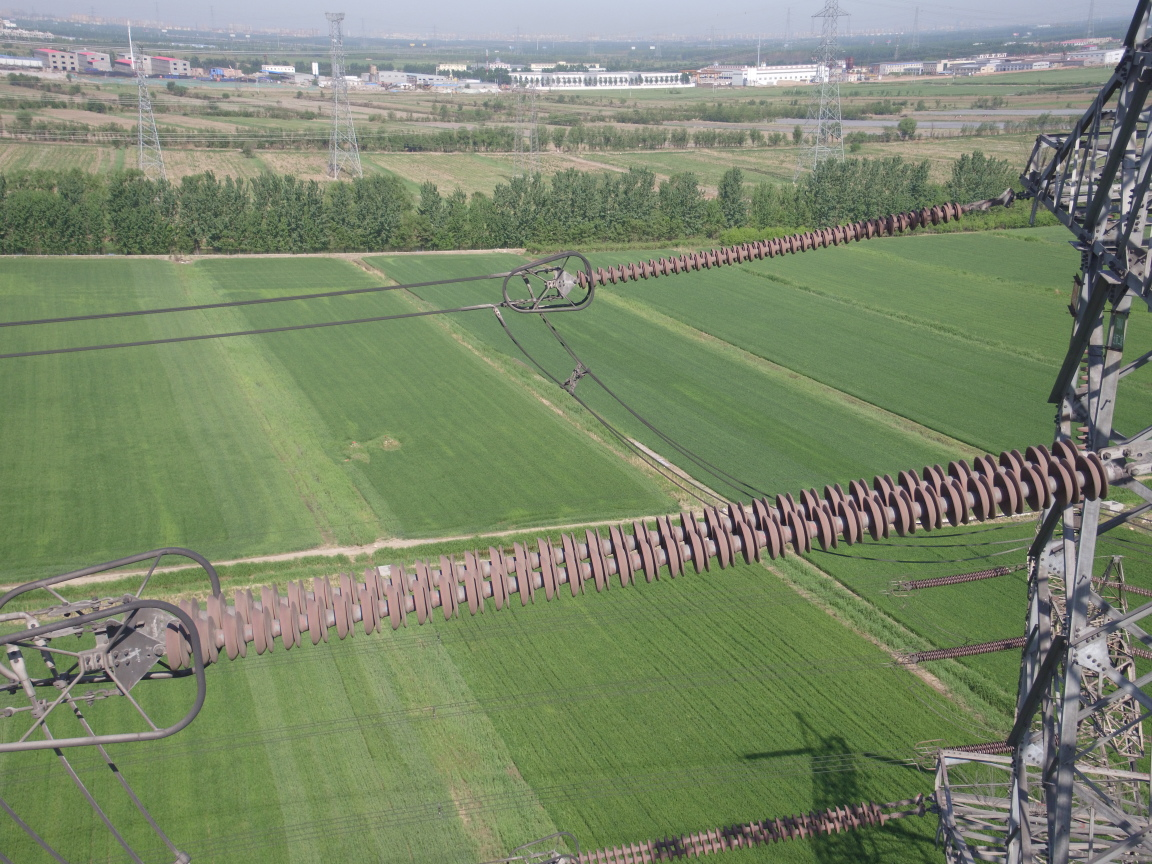insulator: (137, 432, 1137, 677), (568, 195, 986, 293)
